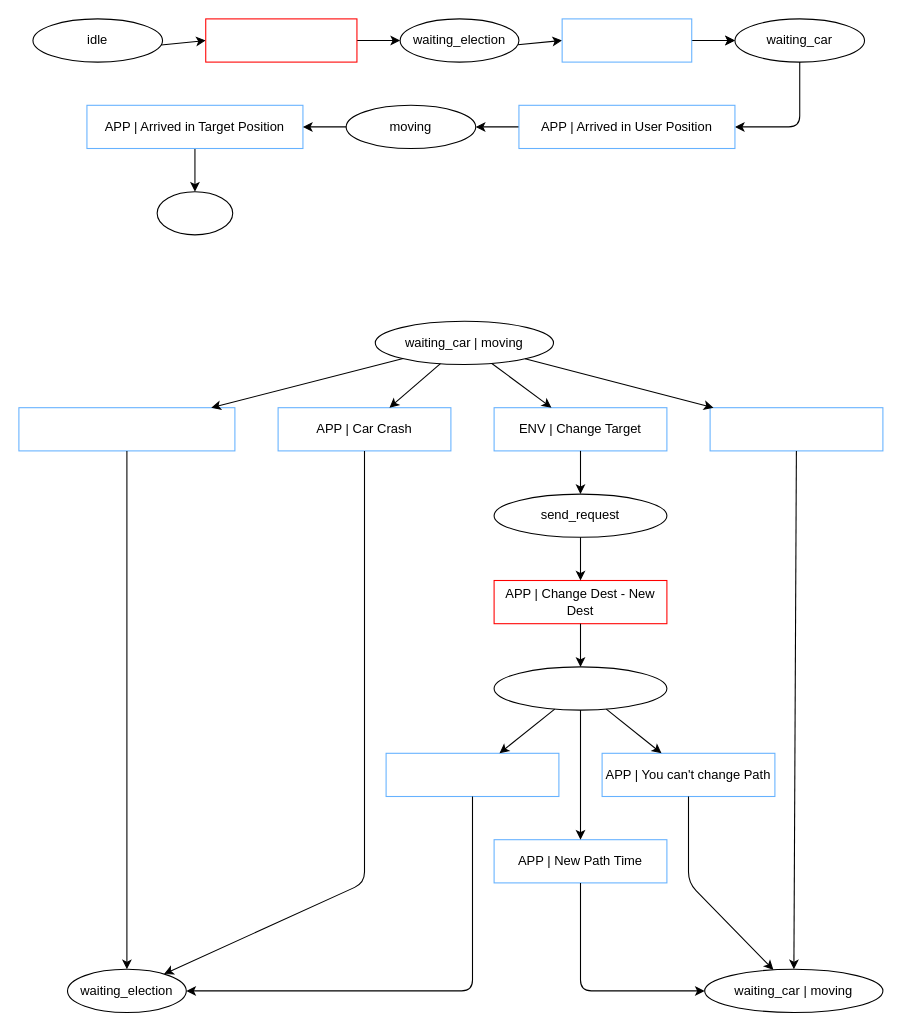
The diagram is 902 pixels wide and 1031 high, and some of its shapes have lost their labels. The shapes that lost their labels are listed below. From the top down, each one's centre as x and y in pixels, then its label:
At point 281,40: "APP | UID - From - To".
At point 626,40: "APP | ID taxi".
At point 194,213: "end".
At point 126,429: "APP | New Topology Can't help".
At point 796,429: "APP | New Time of Ride".
At point 580,688: "wait_response".
At point 472,774: "APP | No Battery can't help".
